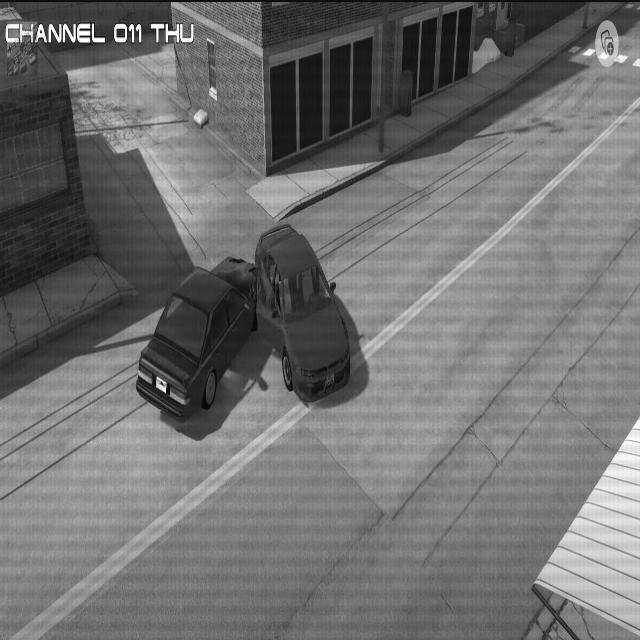accident: (134, 220, 352, 430)
